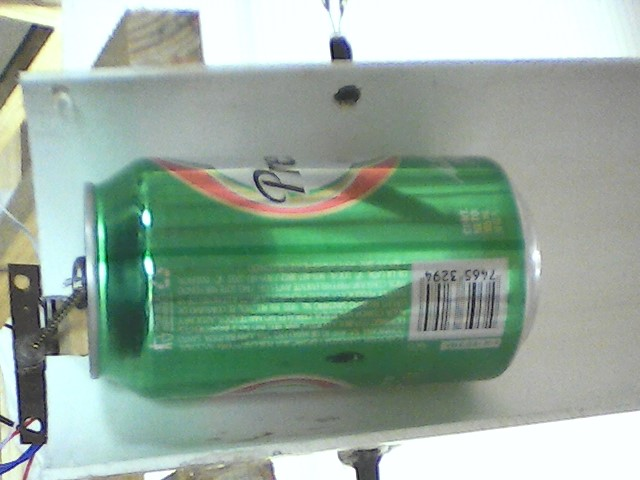lata: (80, 148, 546, 406)
